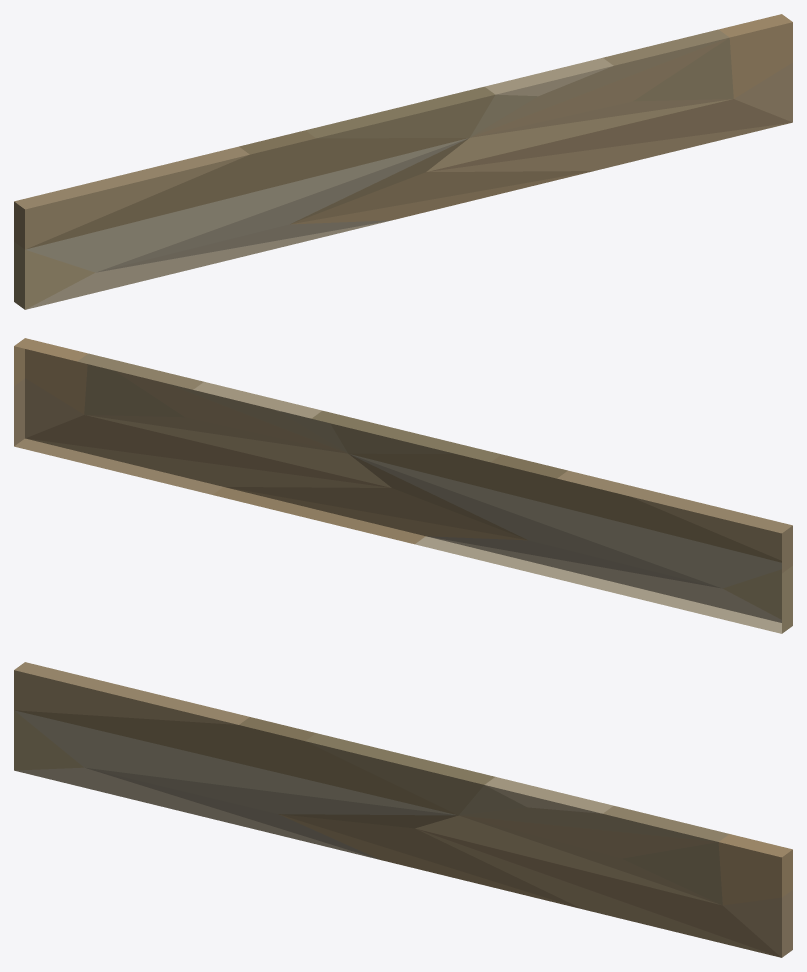
Rendered from Prop_UG-WoodA.fbx.
3 renders of one model, top to bottom at view 1: azimuth 30°, elevation 25°; view 2: azimuth 150°, elevation 25°; view 3: azimuth 330°, elevation 25°, orthographic.
Parts seen in each view (by area): view 1: Prop_UG-WoodA; view 2: Prop_UG-WoodA; view 3: Prop_UG-WoodA.
Part boxes in pixels (x1=…): Prop_UG-WoodA: x1=14, y1=14, x2=792, y2=309; Prop_UG-WoodA: x1=14, y1=338, x2=792, y2=633; Prop_UG-WoodA: x1=14, y1=662, x2=792, y2=957.
Bounding box in the file's own units: 400 × 50 × 10.
